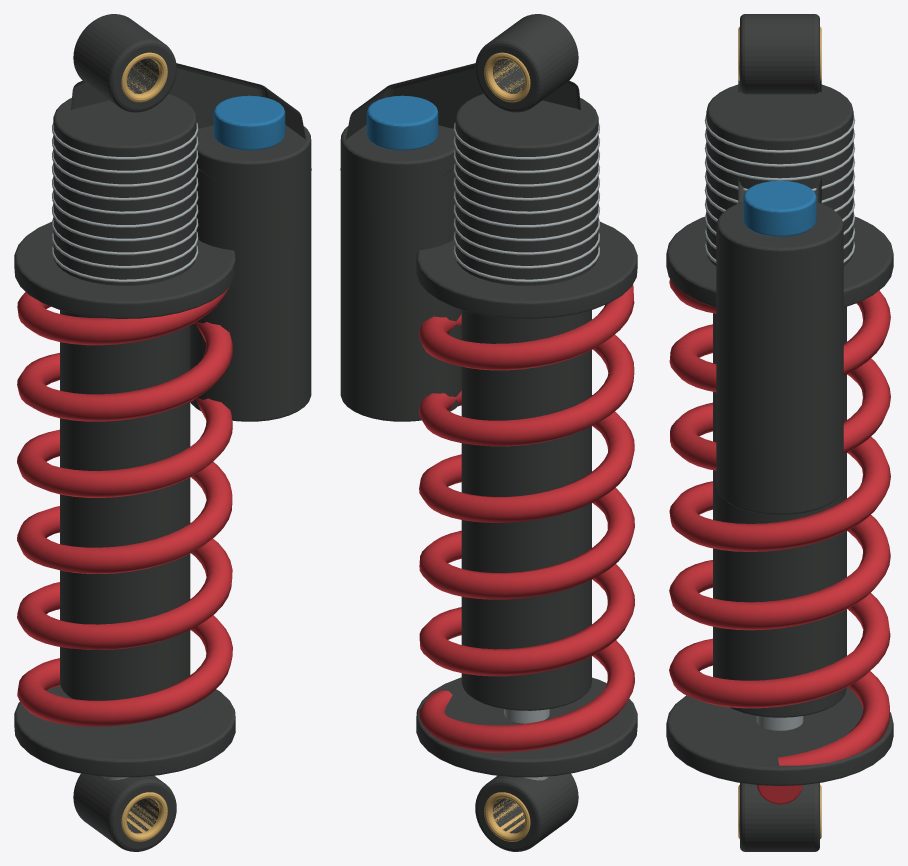
File: rockshox-vivid-coil-ultimate-d1--f1f8f316.glb
3 renders of one model, left to right at view 1: azimuth 30°, elevation 25°; view 2: azimuth 150°, elevation 25°; view 3: azimuth 270°, elevation 25°, orthographic. The views are drawn at different scales.
Parts seen in each view (by area): view 1: rockshox-vivid-coil-ultimate-d1--f1f8f316__link, rockshox-vivid-coil-ultimate-d1--f1f8f316__rebound, rockshox-vivid-coil-ultimate-d1--f1f8f316__bolts, rockshox-vivid-coil-ultimate-d1--f1f8f316__adjuster, rockshox-vivid-coil-ultimate-d1--f1f8f316__stanchions; view 2: rockshox-vivid-coil-ultimate-d1--f1f8f316__link, rockshox-vivid-coil-ultimate-d1--f1f8f316__rebound, rockshox-vivid-coil-ultimate-d1--f1f8f316__bolts, rockshox-vivid-coil-ultimate-d1--f1f8f316__adjuster, rockshox-vivid-coil-ultimate-d1--f1f8f316__stanchions; view 3: rockshox-vivid-coil-ultimate-d1--f1f8f316__link, rockshox-vivid-coil-ultimate-d1--f1f8f316__rebound, rockshox-vivid-coil-ultimate-d1--f1f8f316__bolts, rockshox-vivid-coil-ultimate-d1--f1f8f316__adjuster.
Part boxes in pixels (x1,y1,x2,y2): rockshox-vivid-coil-ultimate-d1--f1f8f316__link: (14,14,311,851); rockshox-vivid-coil-ultimate-d1--f1f8f316__rebound: (17,286,232,726); rockshox-vivid-coil-ultimate-d1--f1f8f316__bolts: (52,122,198,780); rockshox-vivid-coil-ultimate-d1--f1f8f316__adjuster: (213,95,285,150); rockshox-vivid-coil-ultimate-d1--f1f8f316__stanchions: (121,52,167,841); rockshox-vivid-coil-ultimate-d1--f1f8f316__link: (340,14,637,851); rockshox-vivid-coil-ultimate-d1--f1f8f316__rebound: (418,284,634,752); rockshox-vivid-coil-ultimate-d1--f1f8f316__bolts: (453,122,599,780); rockshox-vivid-coil-ultimate-d1--f1f8f316__adjuster: (366,95,438,150); rockshox-vivid-coil-ultimate-d1--f1f8f316__stanchions: (484,52,530,841); rockshox-vivid-coil-ultimate-d1--f1f8f316__link: (666,14,893,851); rockshox-vivid-coil-ultimate-d1--f1f8f316__rebound: (669,279,890,804); rockshox-vivid-coil-ultimate-d1--f1f8f316__bolts: (704,115,855,730); rockshox-vivid-coil-ultimate-d1--f1f8f316__adjuster: (743,180,816,236).
Bounding box in the file's own units: 0.097 × 0.274 × 0.068.
